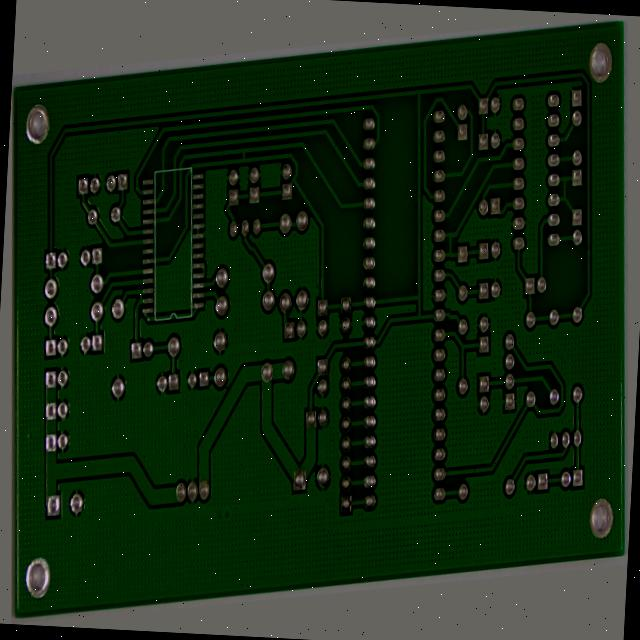short: (449, 233, 470, 274), (570, 190, 589, 225), (243, 102, 257, 132), (131, 255, 142, 276)
